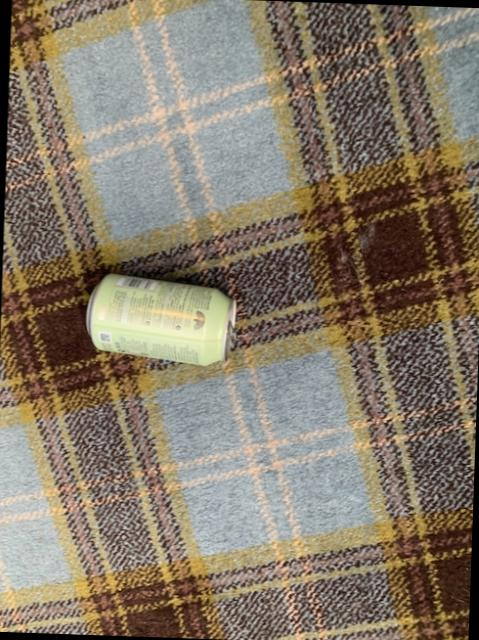metal: (84, 275, 233, 367)
